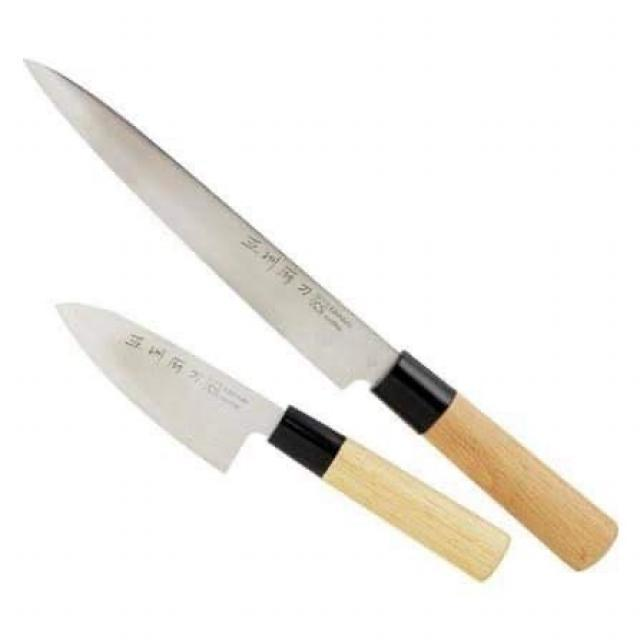Knife: (18, 38, 622, 590)
